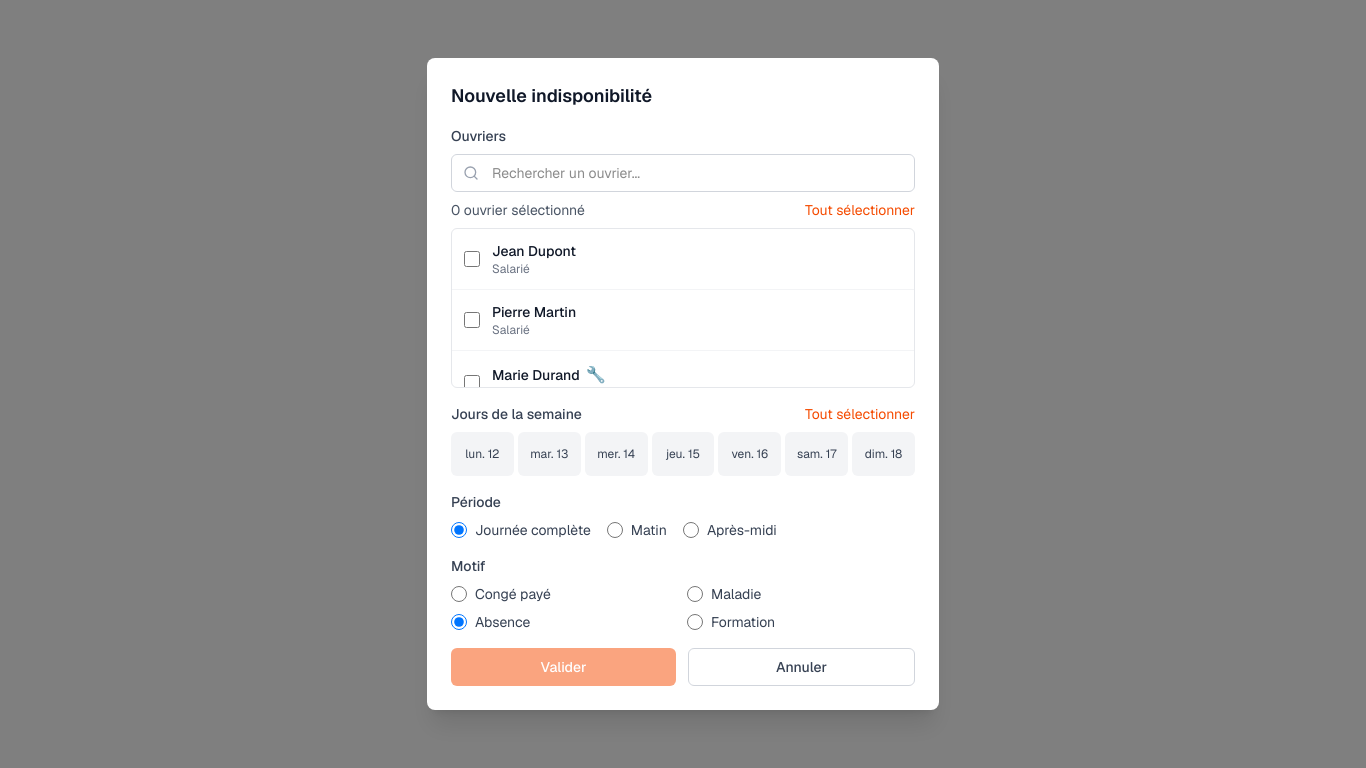
Test case: IndisponibiliteMultiModal › Sélection des ouvriers (AC: 3) › permet de tout sélectionner/désélectionner les ouvriers
The image size is (1366, 768).
Click the button "Tout sélectionner" in the row of "sélectionné".
click(860, 210)  # box x1=805 y1=200 x2=915 y2=220
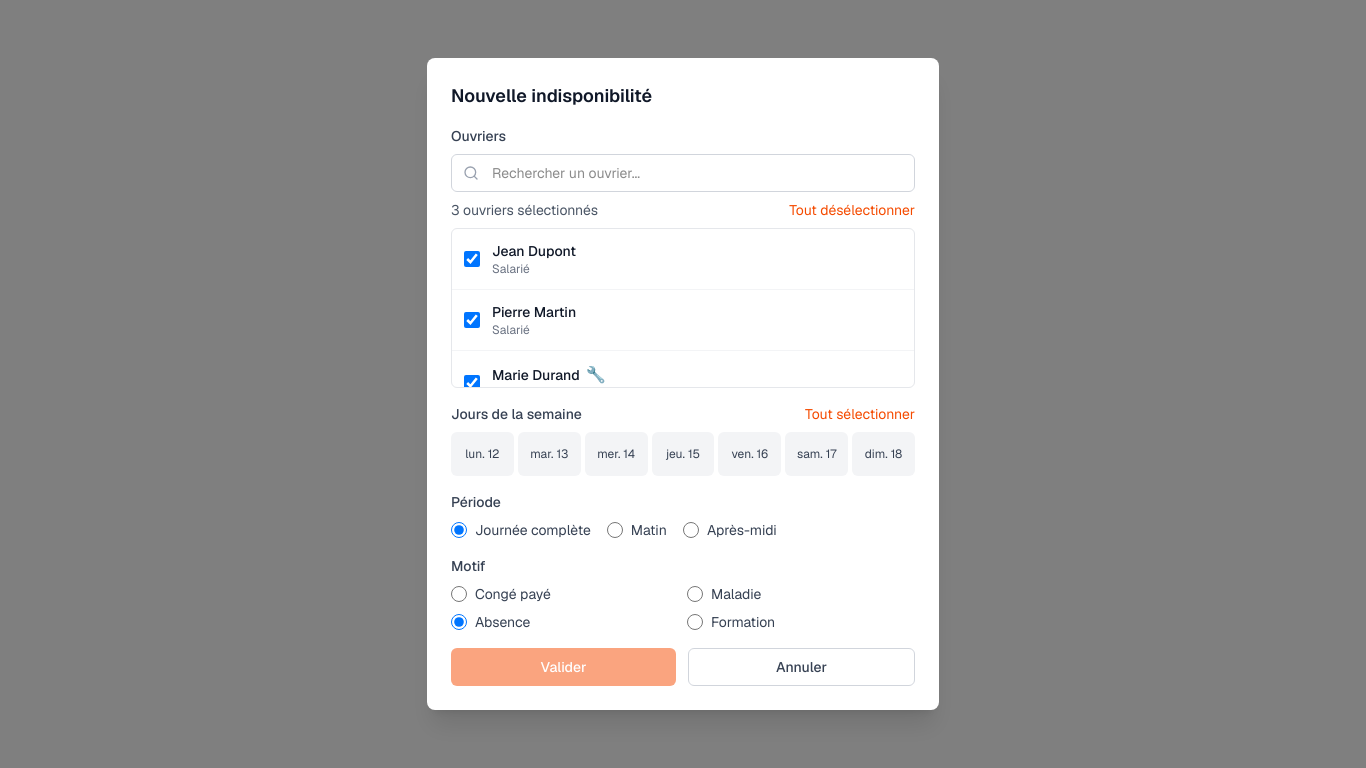
Check: the text "3 ouvriers sélectionnés" is shown, box x1=451 y1=200 x2=598 y2=220
